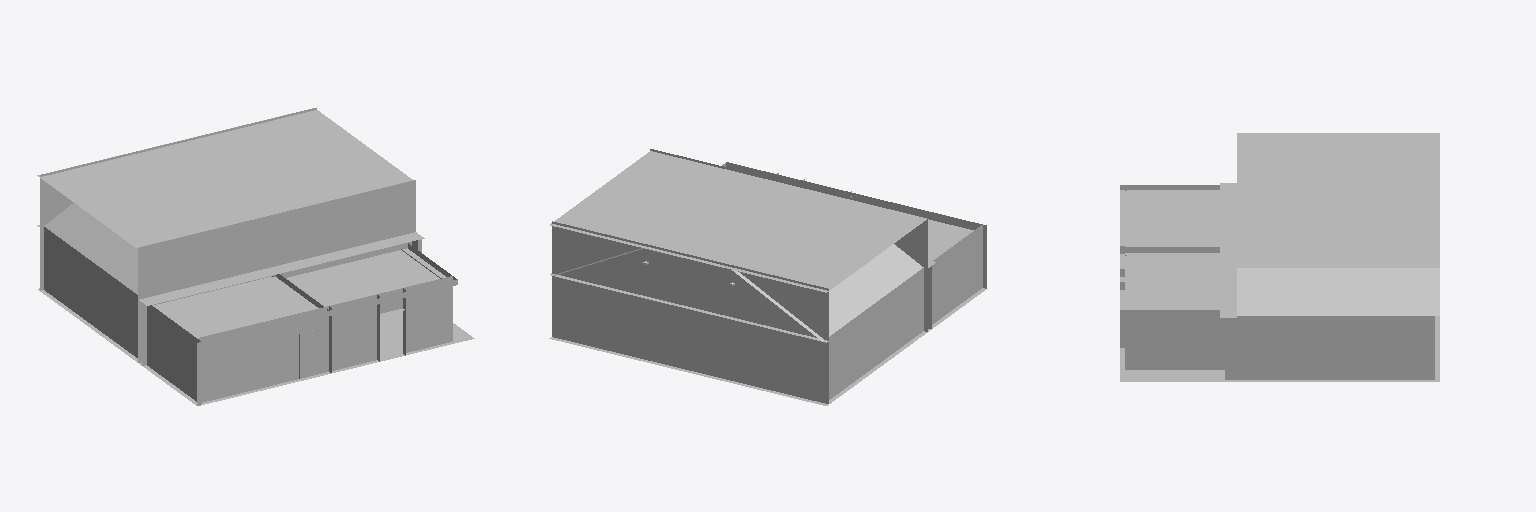
Rendered from LC_cont1_914.obj.
The picture shows the model from 3 angles: view 1: azimuth 30°, elevation 25°; view 2: azimuth 150°, elevation 25°; view 3: azimuth 270°, elevation 25°; orthographic projection.
Parts seen in each view (by area): view 1: LC_cont1_914; view 2: LC_cont1_914; view 3: LC_cont1_914.
Boxes of the visible parts, x1,y1,x2,y2 form: LC_cont1_914: [37, 108, 474, 405]; LC_cont1_914: [549, 149, 986, 405]; LC_cont1_914: [1120, 133, 1439, 381].
Bounding box in the file's own units: 20.48 × 8.16 × 20.48.